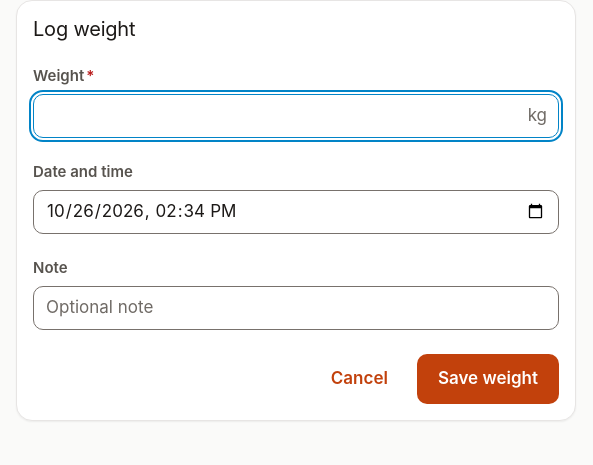
Scenario: rejects zero with its own prompt and sends nothing (WT-4)
Type "0" into the field labelled "Weight*". click: (296, 116)
box: [33,94,559,138]
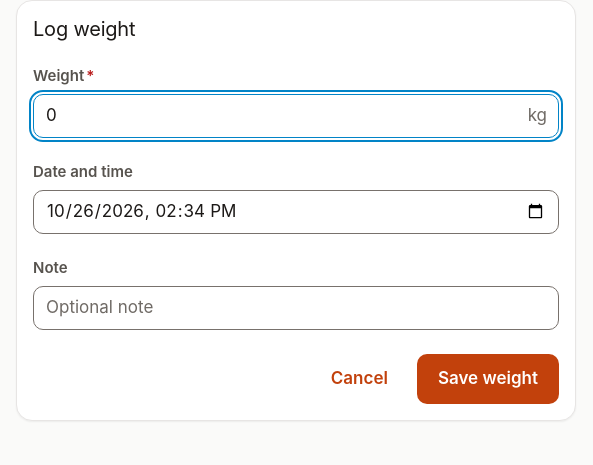
Click the button "Save weight". click: (488, 379)
box: [417,354,559,404]
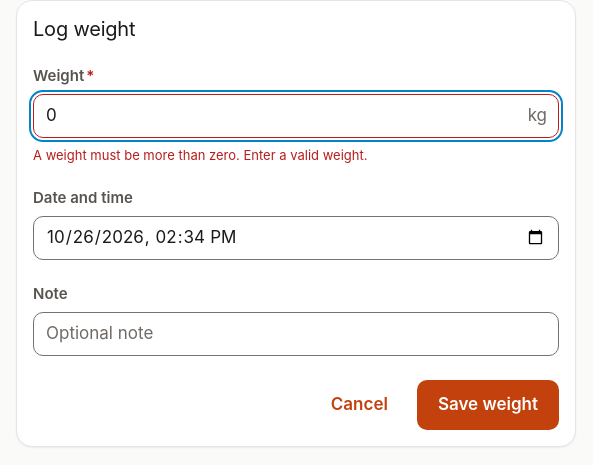
Expected: the text "A weight must be more than zero. Enter a valid weight." is shown, [33,147,367,163]
